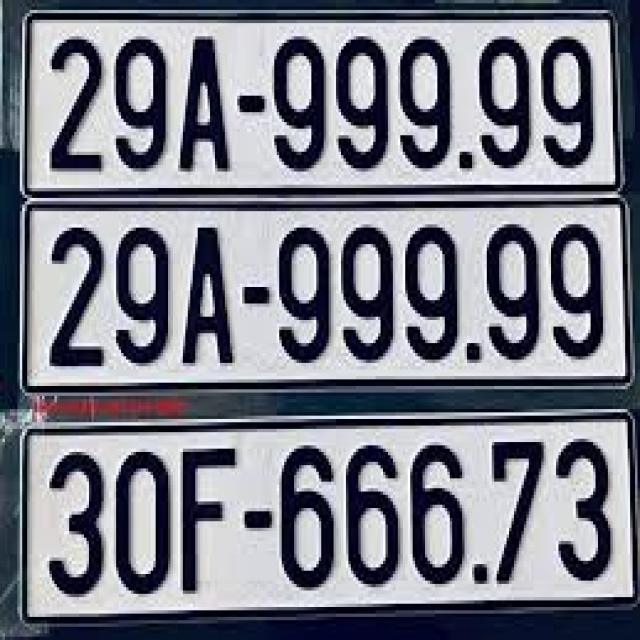bien_so: (17, 407, 638, 631), (22, 194, 638, 403), (21, 0, 626, 191)
